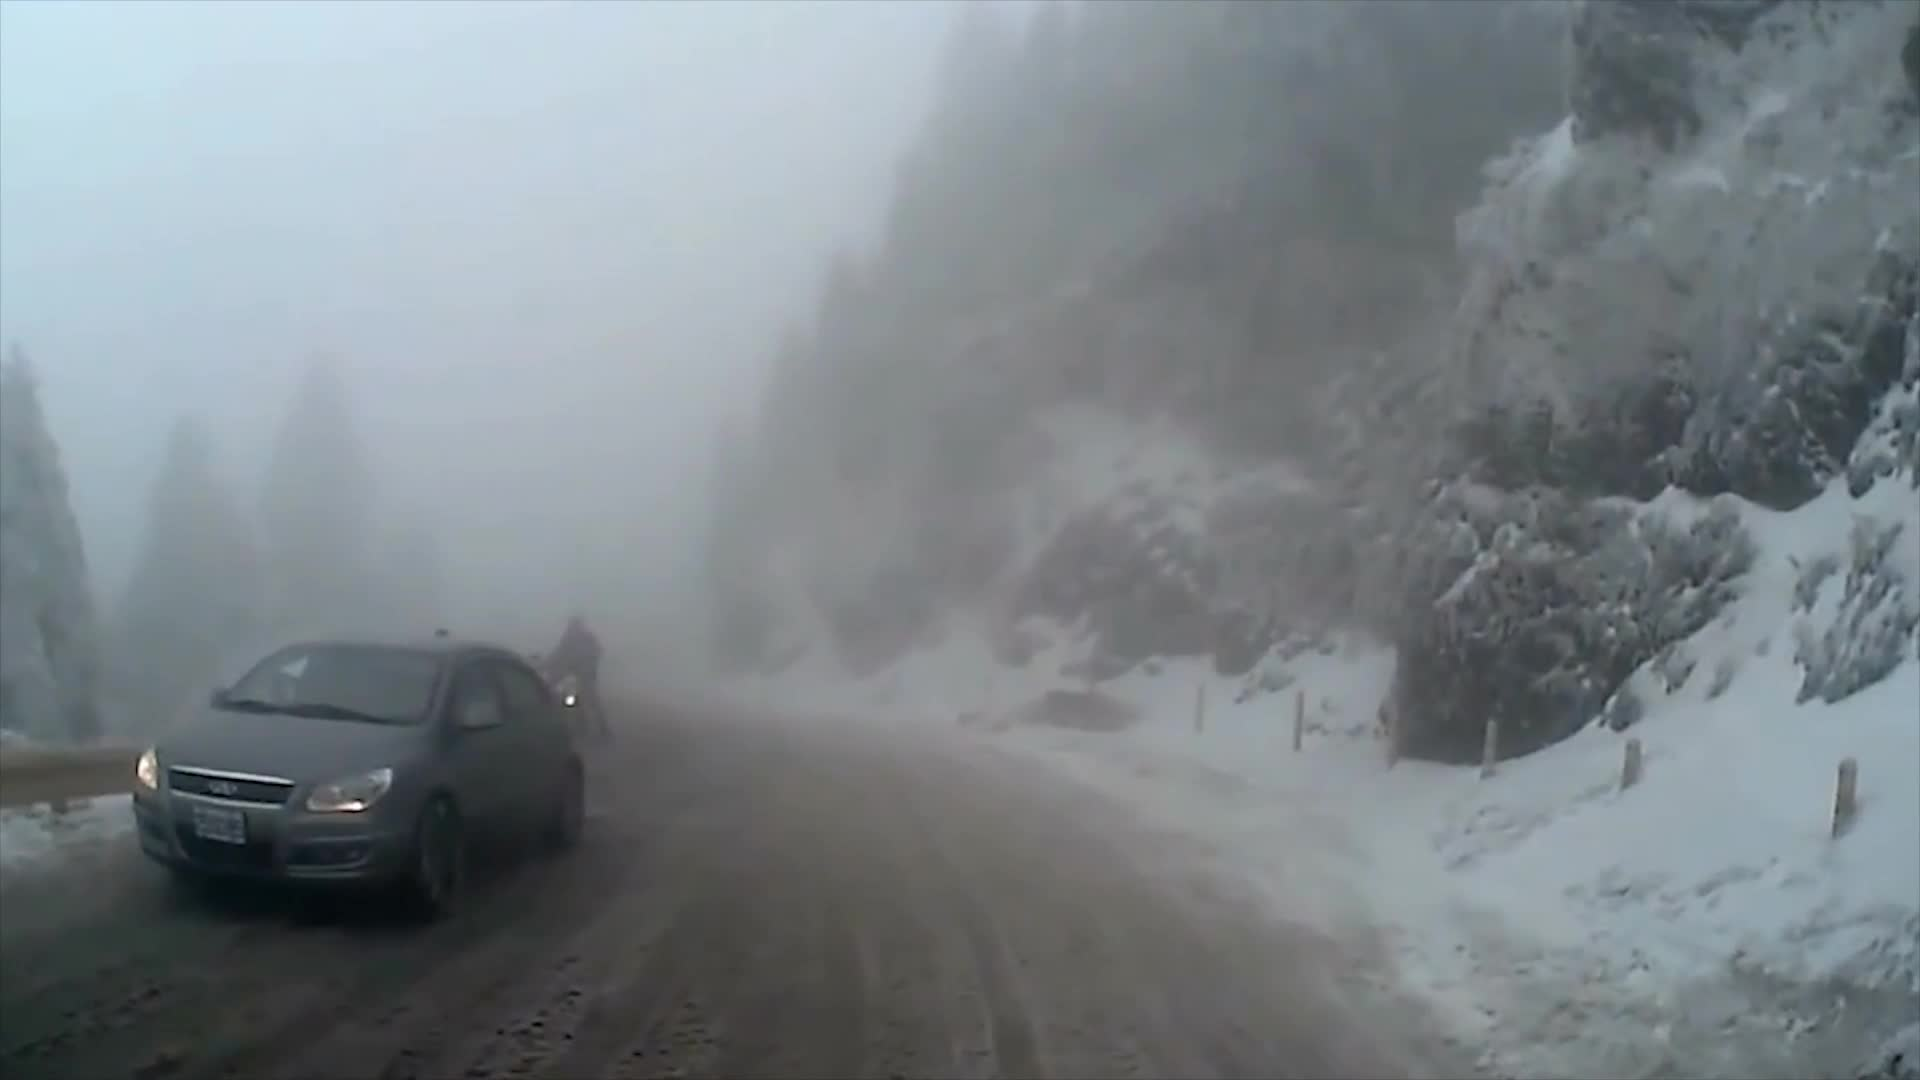vehicle: (135, 633, 588, 916)
